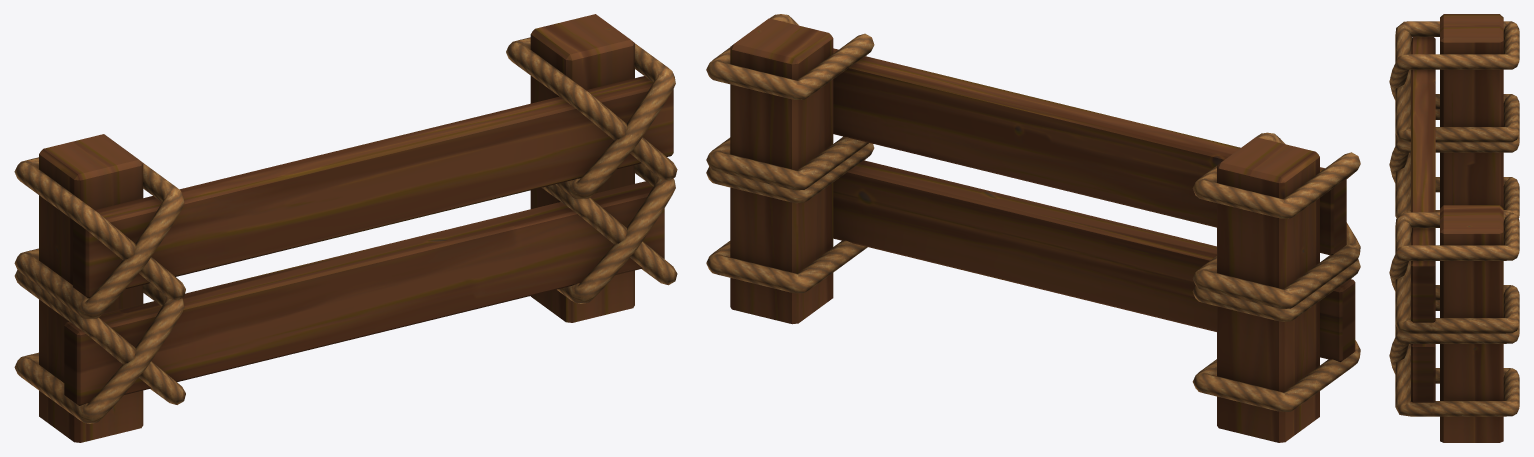
The model's file is fence_01.fbx.
3 views of the same model, side by side, from view 1: azimuth 30°, elevation 25°; view 2: azimuth 150°, elevation 25°; view 3: azimuth 270°, elevation 25° (orthographic). The views are drawn at different scales.
Visible parts, largest first — view 1: fence_01; view 2: fence_01; view 3: fence_01.
Boxes of the visible parts, x1,y1,x2,y2 form: fence_01: [14, 14, 677, 442]; fence_01: [706, 14, 1360, 442]; fence_01: [1389, 14, 1519, 442].
Size of the model in its own units: 102 by 43.36 by 24.08.
